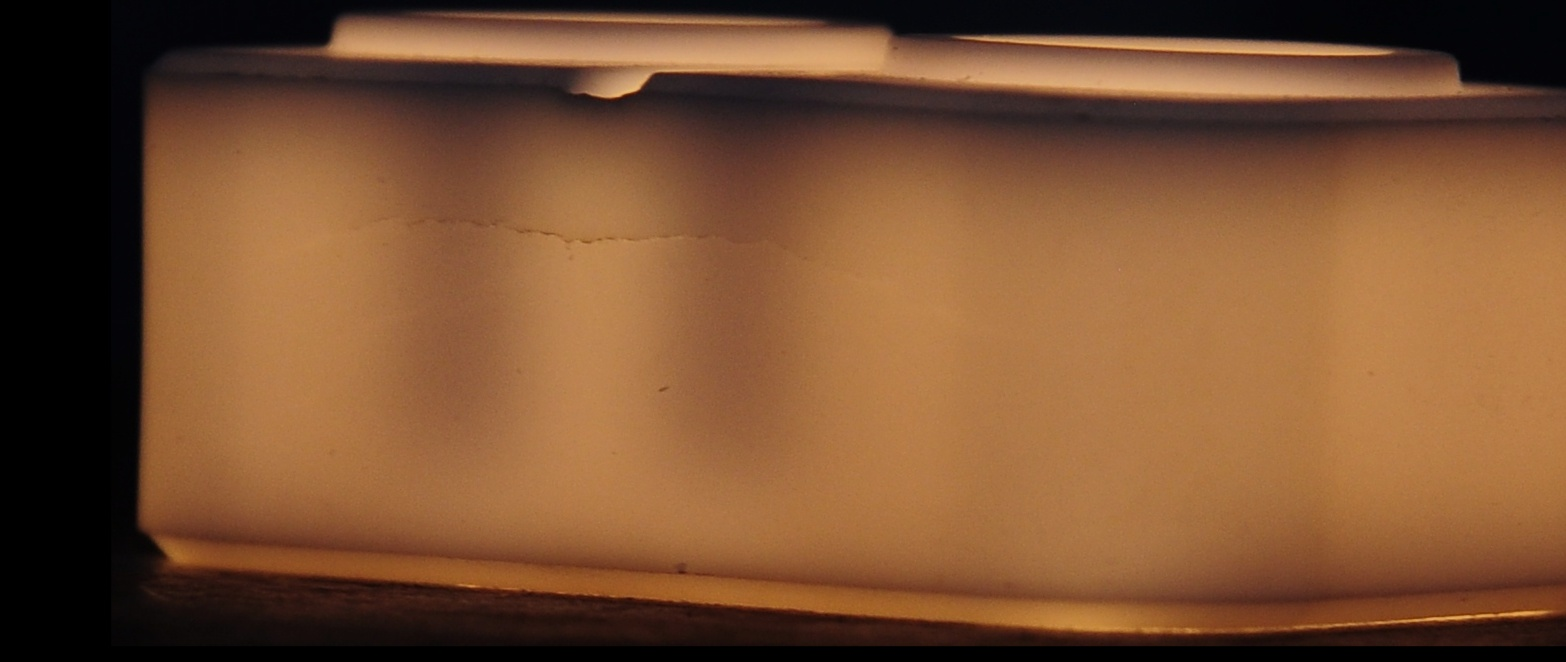flaw: (276, 207, 1008, 313)
macula: (646, 368, 675, 407)
